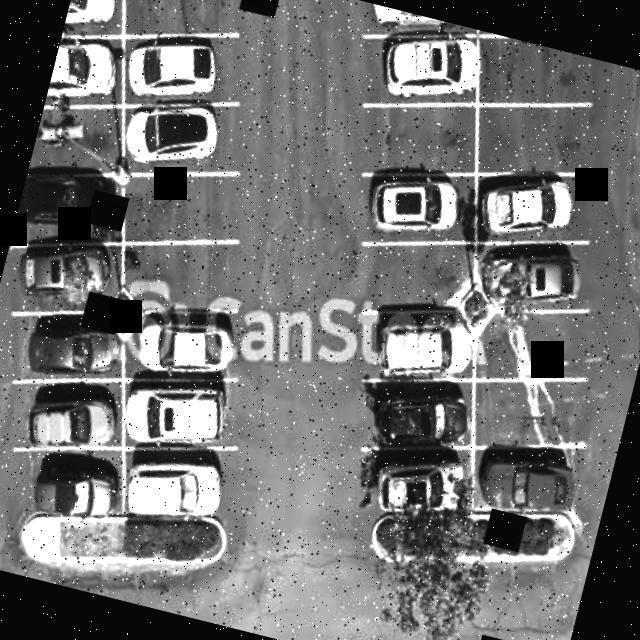car: (120, 103, 232, 174), (479, 244, 585, 312), (128, 456, 229, 521), (368, 173, 464, 241), (126, 386, 228, 449), (125, 39, 230, 100), (129, 321, 237, 379), (21, 238, 120, 301), (479, 452, 582, 512), (376, 320, 474, 382), (371, 457, 467, 517), (367, 391, 469, 446), (484, 178, 576, 238), (19, 323, 121, 377), (30, 470, 125, 519), (26, 408, 122, 448)
